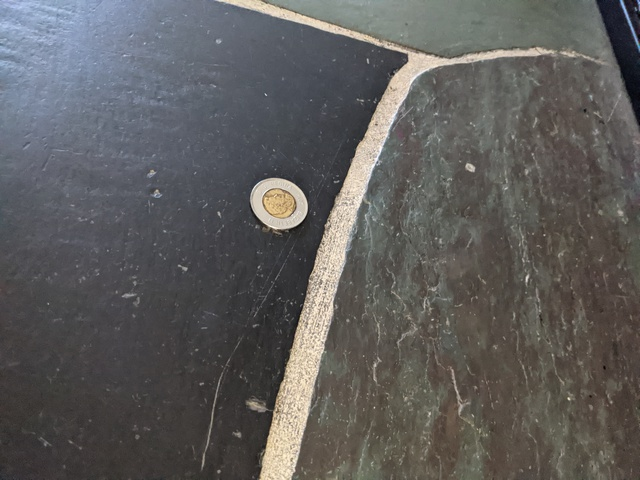twonie: (243, 175, 311, 235)
